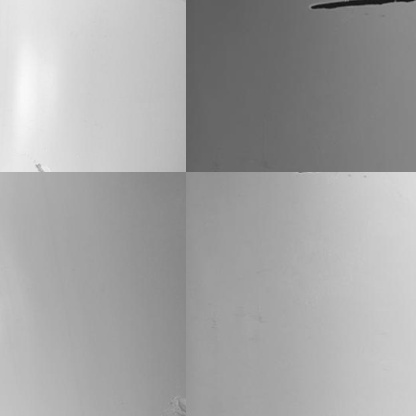fengxi: (308, 3, 413, 10)
